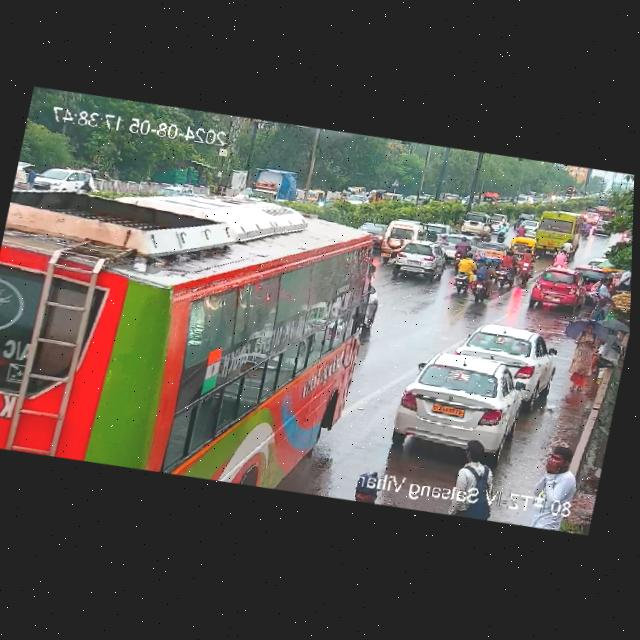bus: (0, 152, 387, 507), (529, 207, 584, 258)
car: (386, 344, 528, 461), (453, 319, 558, 399), (17, 156, 102, 205), (527, 265, 588, 312), (387, 239, 450, 283), (383, 217, 440, 248), (363, 282, 384, 333), (470, 239, 504, 263), (576, 261, 603, 291), (456, 207, 485, 233), (507, 232, 536, 251), (437, 231, 455, 259), (369, 220, 385, 251), (427, 220, 454, 236), (489, 213, 512, 230), (590, 220, 611, 238), (514, 211, 534, 227), (583, 210, 601, 225), (523, 220, 538, 235), (522, 224, 524, 227)
motorcycle: (468, 254, 501, 303), (445, 255, 475, 297), (496, 247, 522, 290), (514, 249, 538, 283), (553, 245, 571, 268), (454, 236, 471, 260), (493, 224, 509, 243), (560, 235, 573, 253), (581, 219, 592, 239), (481, 223, 493, 240), (516, 221, 526, 236)
person: (441, 431, 494, 517), (534, 441, 578, 493), (567, 320, 598, 393), (338, 466, 382, 505), (589, 334, 618, 371), (616, 261, 632, 288), (596, 276, 614, 298), (592, 299, 609, 320)
truck: (236, 160, 305, 208)
